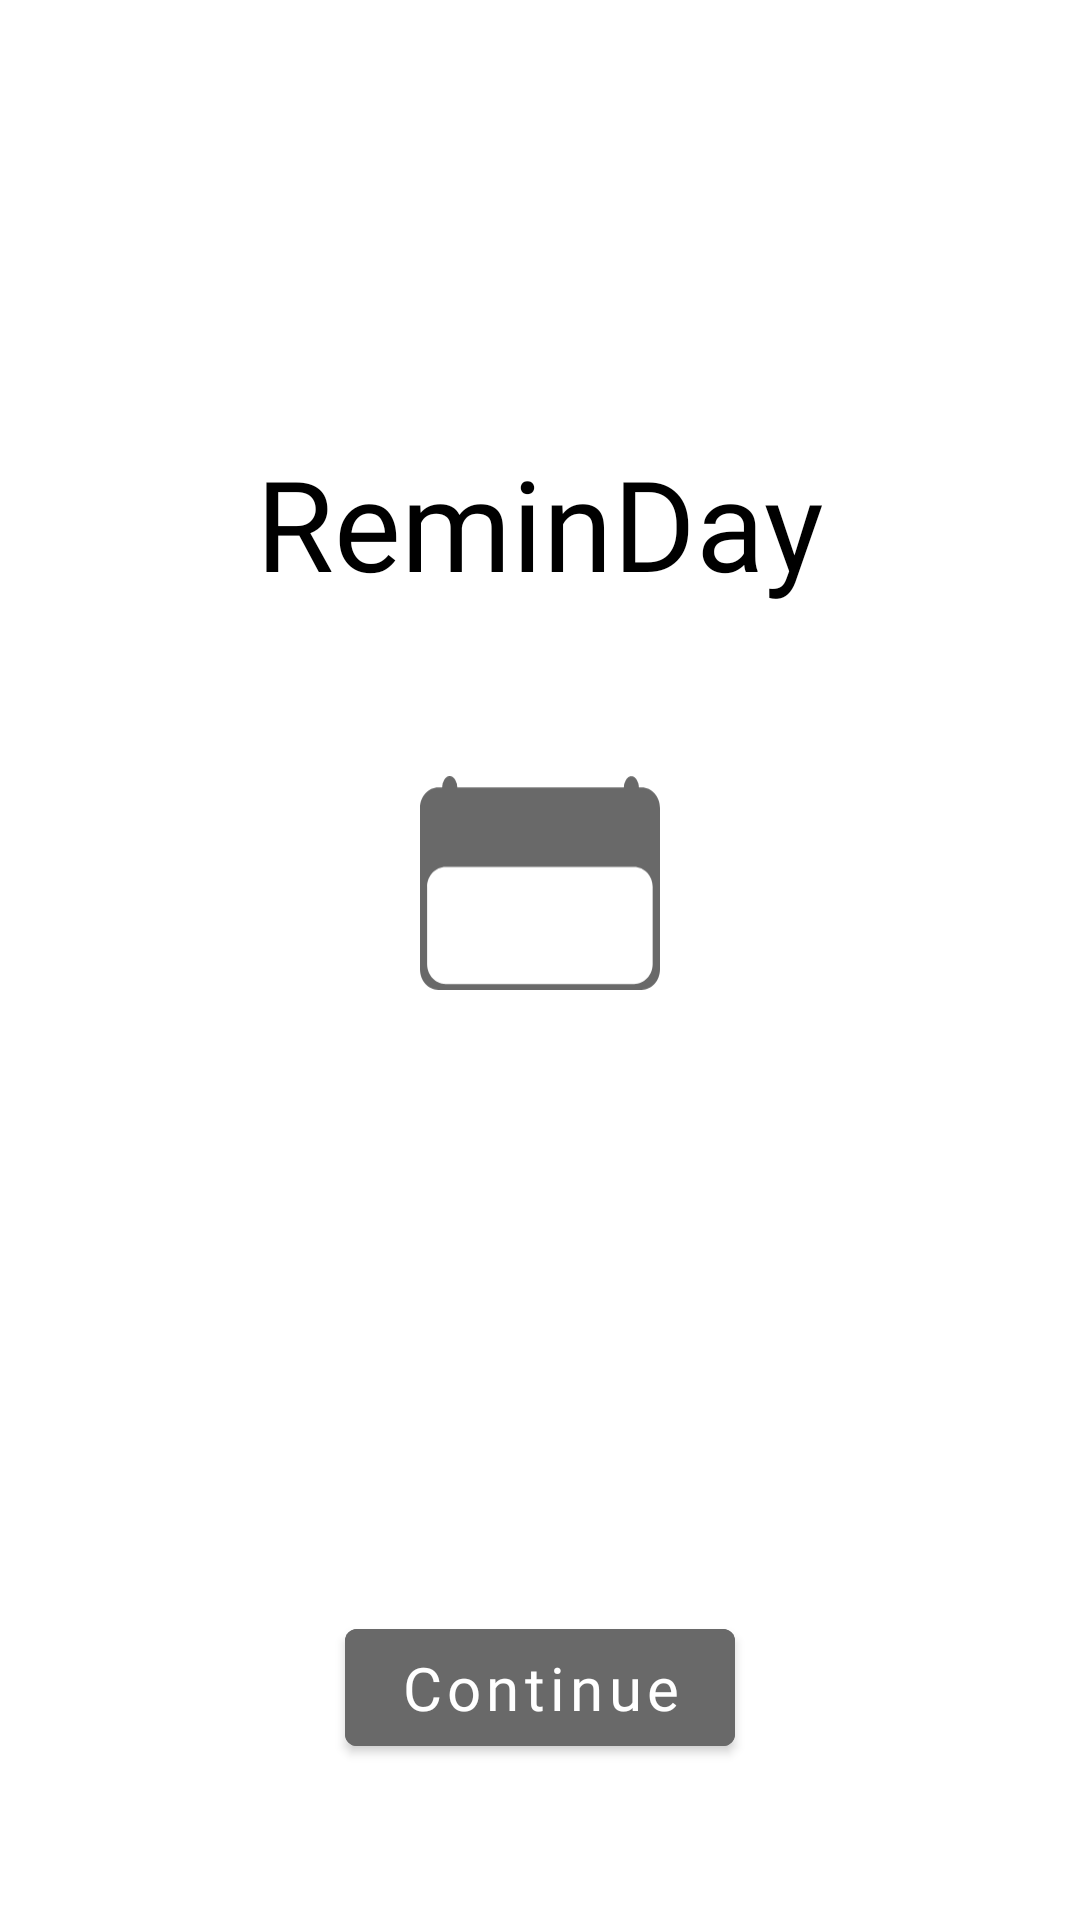

Icons on this 1080px×1920px Android screen, each with the point to tap as (x=x, y=y):
calendar empty: (x=540, y=883)
